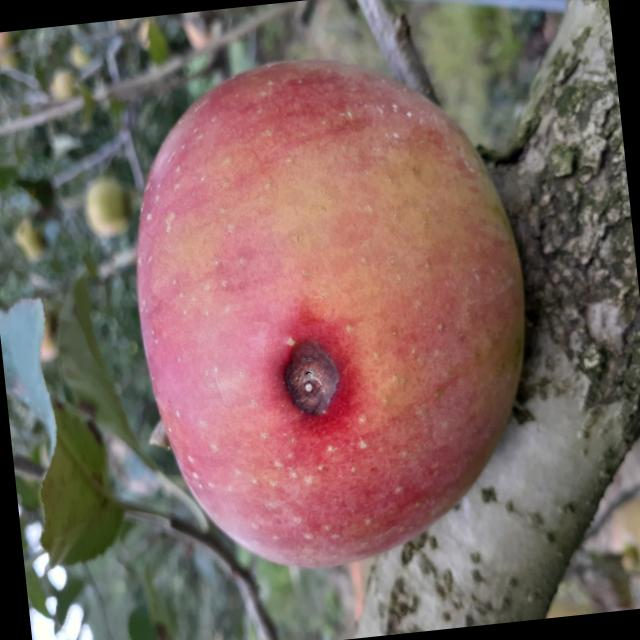rotten: (103, 27, 565, 597)
